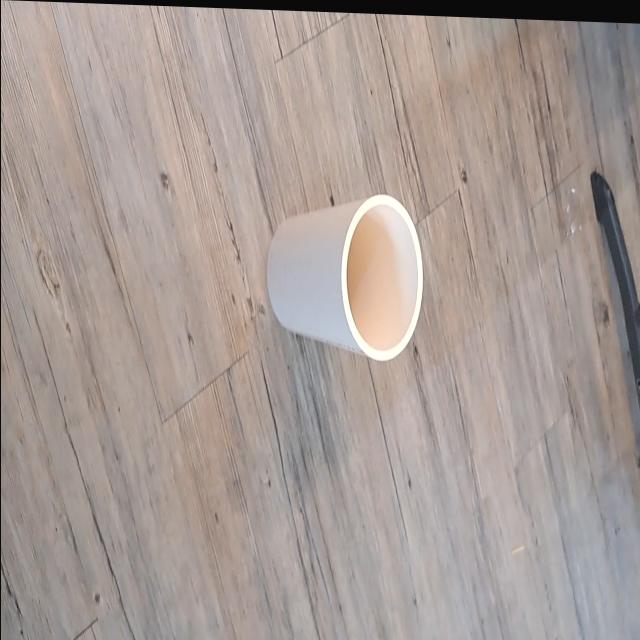CORAL: (242, 151, 442, 435)
